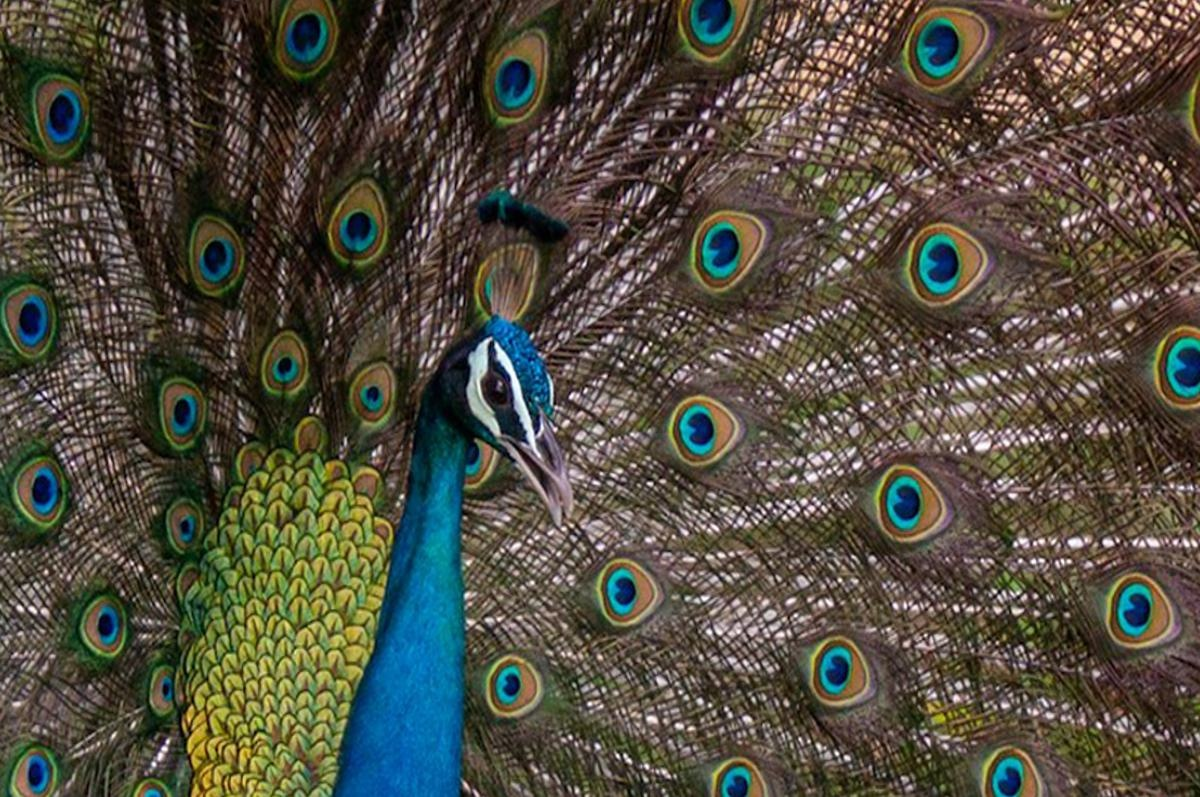peacock: (78, 102, 1098, 797)
